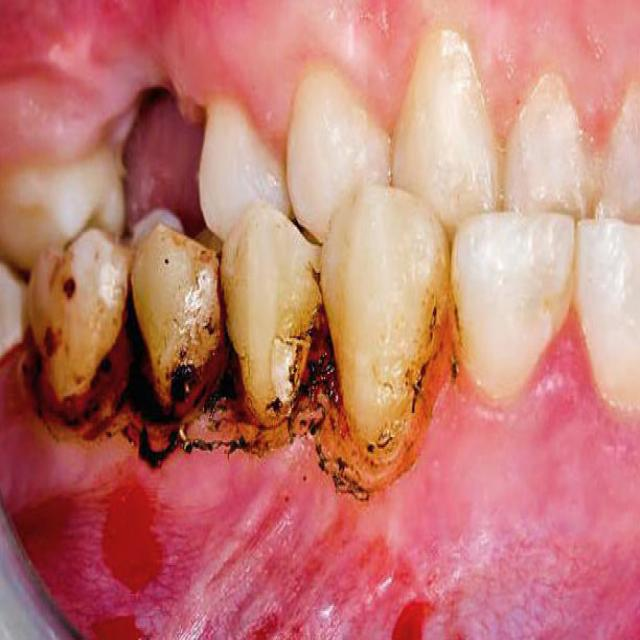caries: (322, 315, 448, 491), (23, 292, 132, 448), (135, 300, 223, 464), (229, 311, 316, 474)
